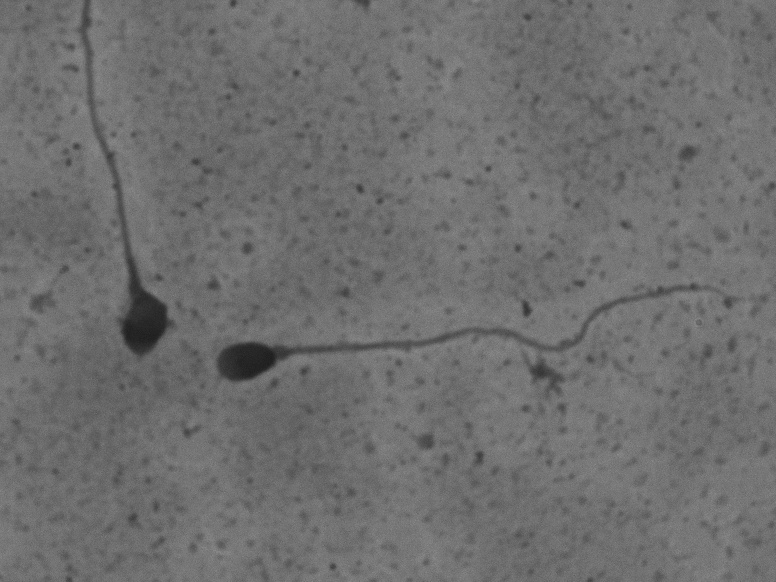Abnormal: (61, 4, 184, 372)
Normal: (203, 270, 747, 398)
